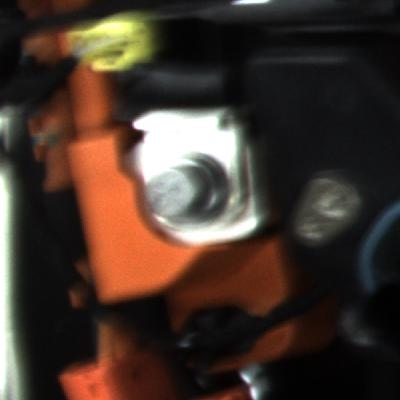nut_b: (138, 145, 235, 230)
